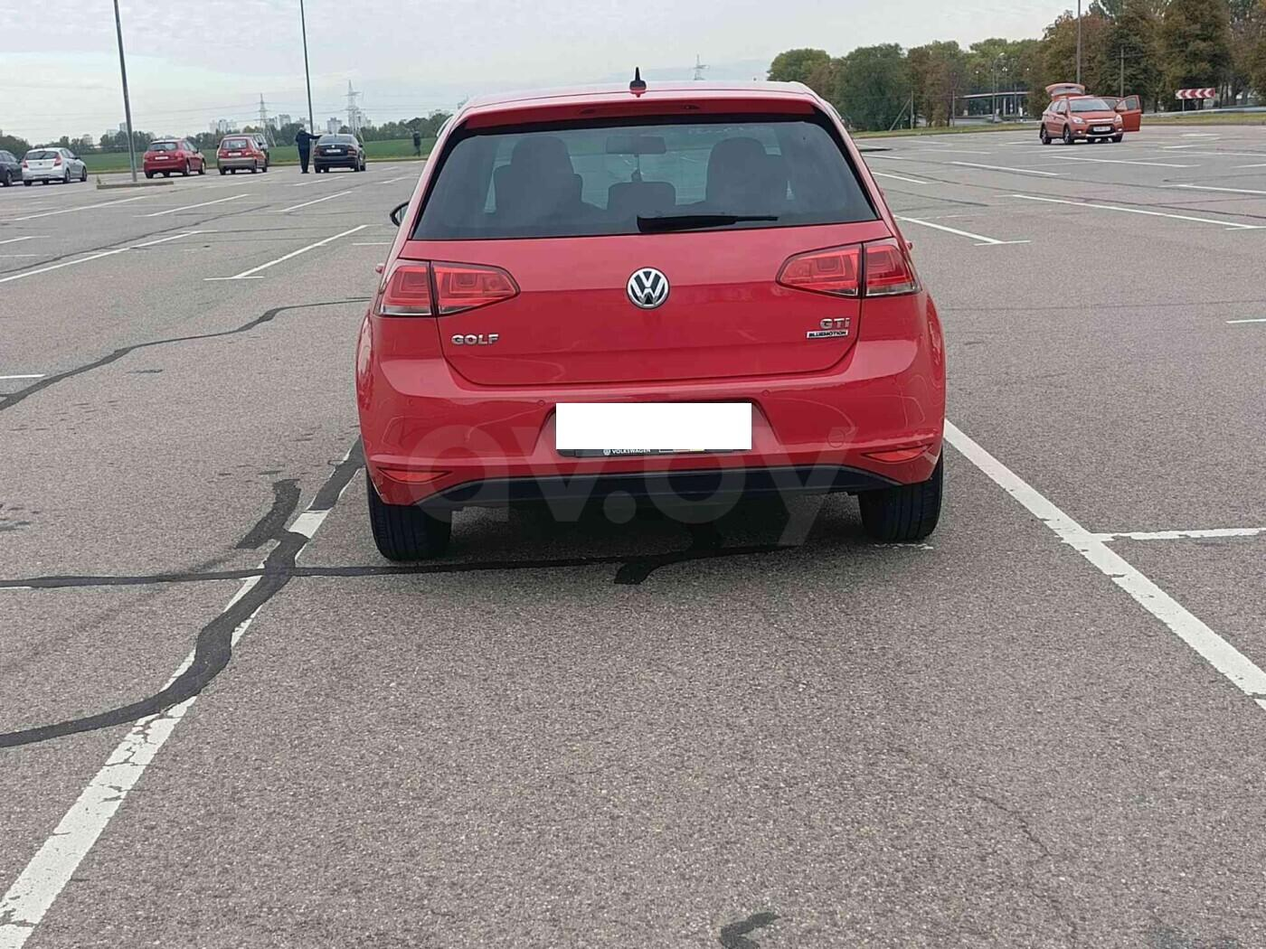Golf_2012-2017: (347, 87, 956, 592)
